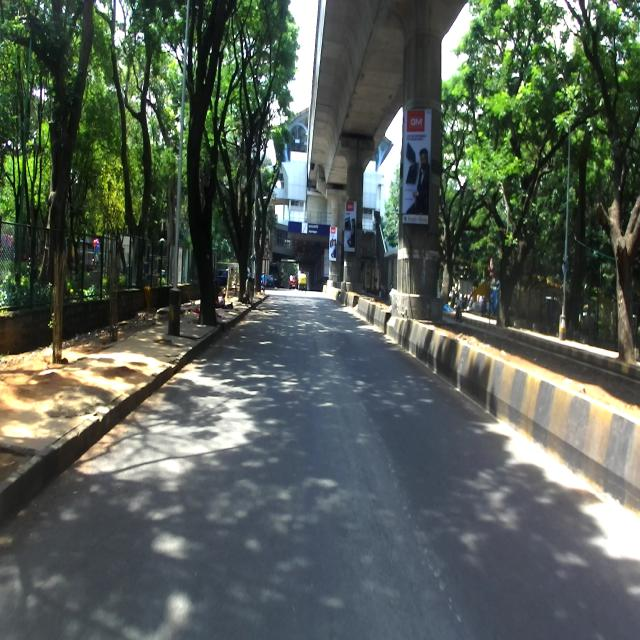tree ahead at: (32, 52, 89, 366), (183, 44, 232, 334)
